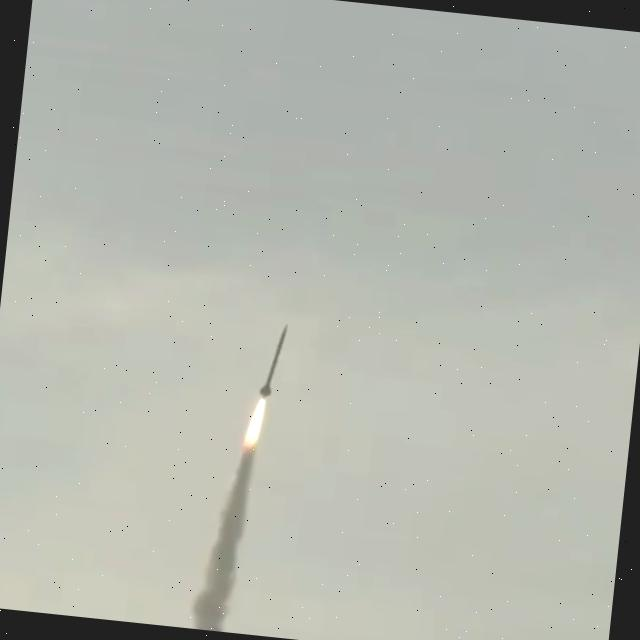rocket: (258, 324, 285, 397)
smoke_trail_with_rocket: (190, 324, 285, 632)
